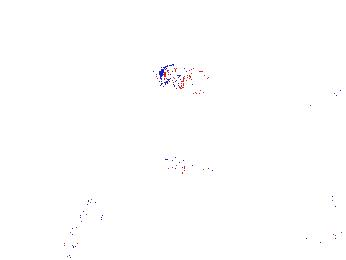X-ray fish: (149, 61, 218, 95)
glassfish: (66, 177, 122, 249), (159, 154, 244, 192)
